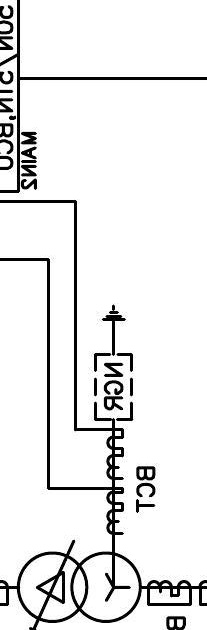11522_tx_dyn1: (16, 551, 143, 624)
NGR_future: (93, 304, 134, 422)
